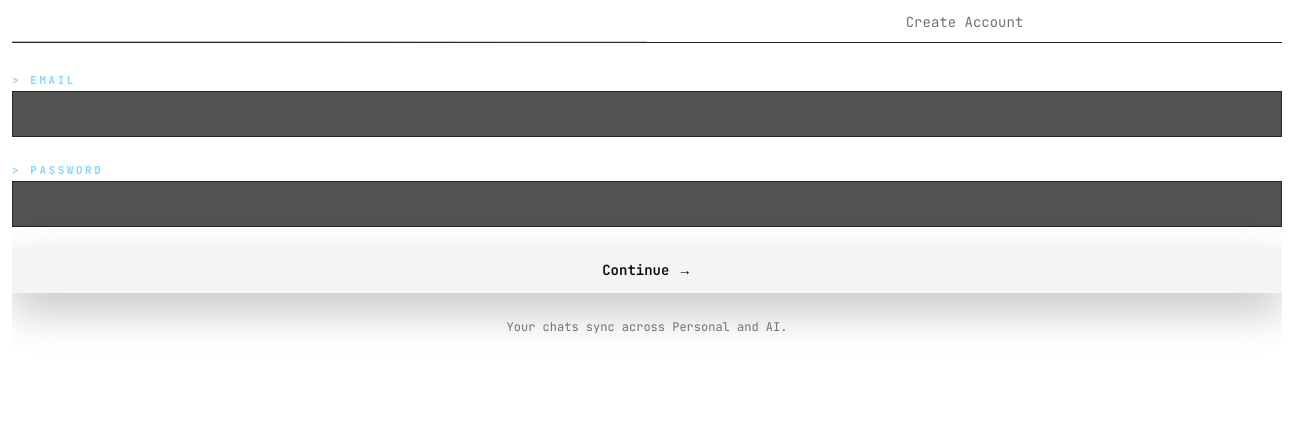
Test: PersonalLoginForm › shows an inline auth error when the login fails
Type "wrong@example.com" into the field labelled "Email" at (647, 114), box [12,91,1282,137]
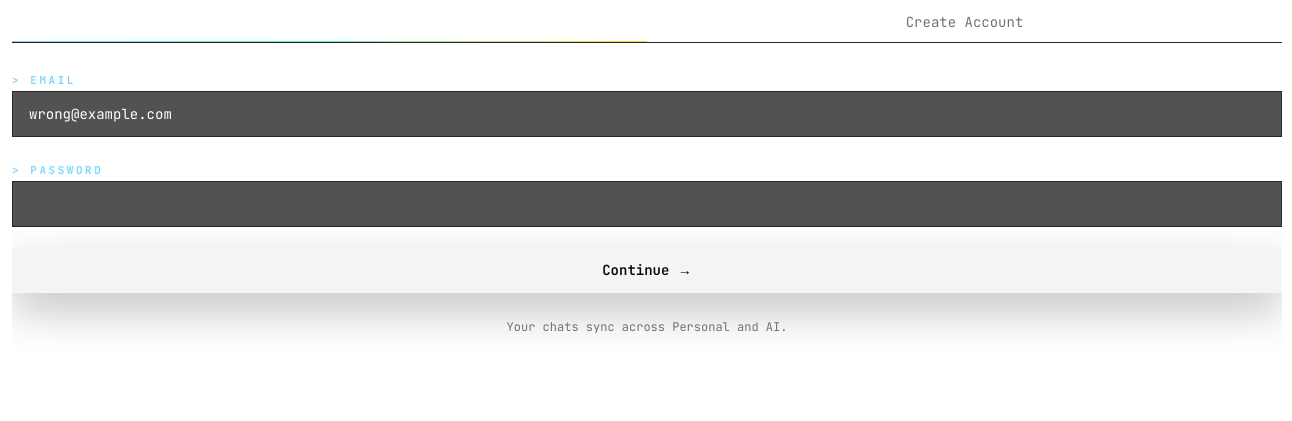
Type "wrongpass" into the password field labelled "Password" at (647, 204), box [12,181,1282,227]
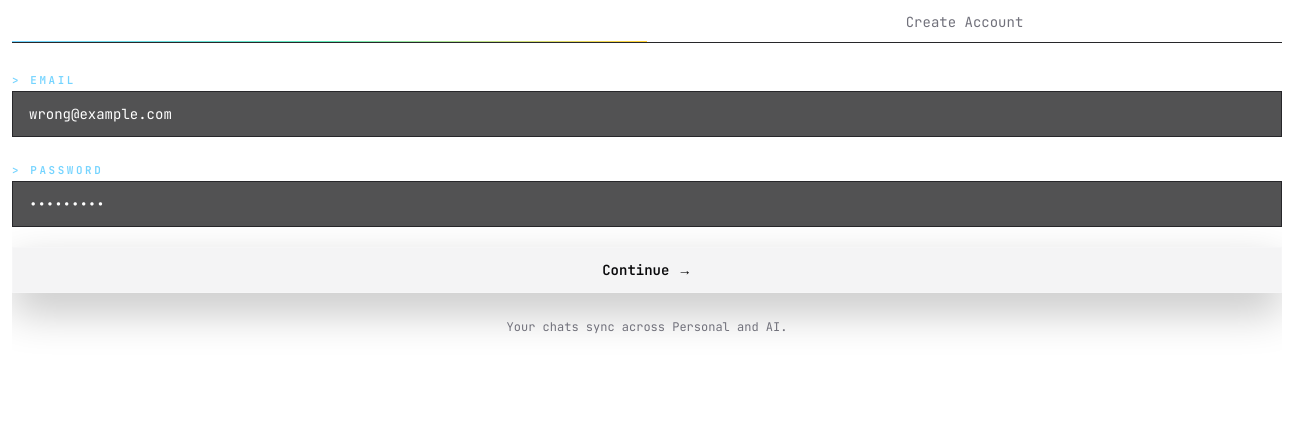
Click the button "Continue →" at (647, 270), box [12,247,1282,293]
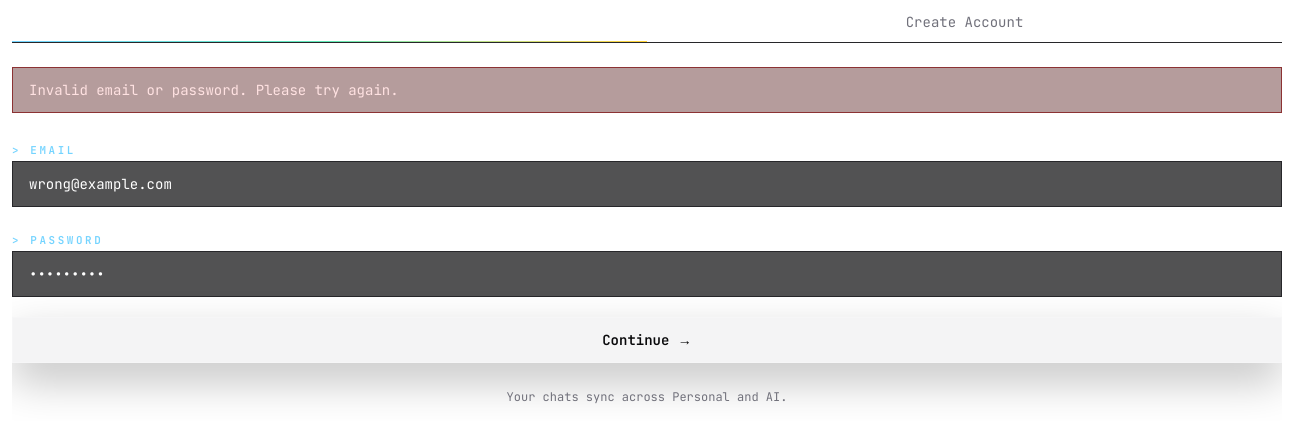
Now the message reads "Invalid email or password. Please try again.", box [29,81,399,99]
